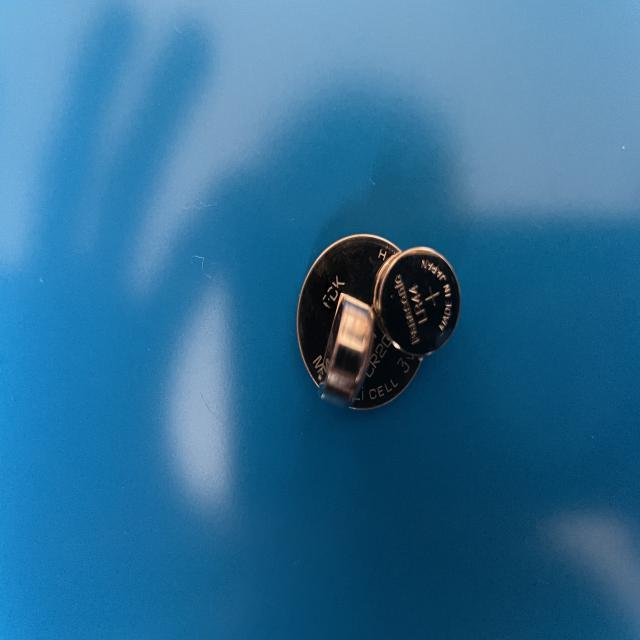COIN: (294, 230, 434, 412), (374, 246, 462, 360), (318, 286, 376, 418)
